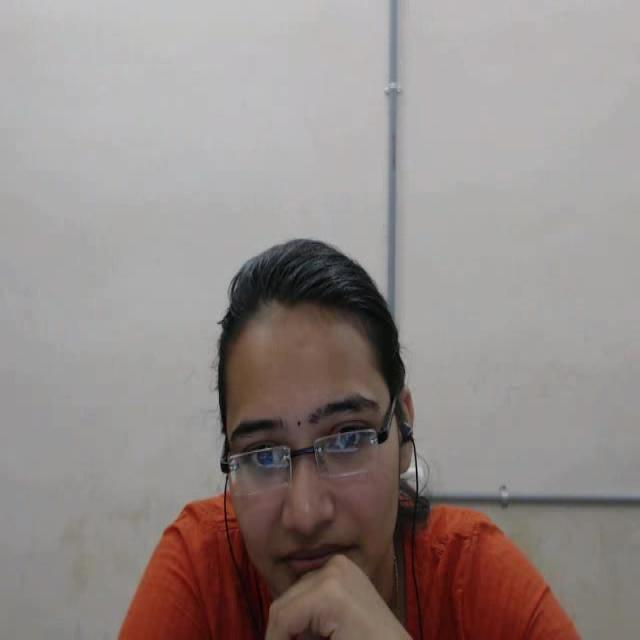Engaged: (189, 211, 445, 637)
